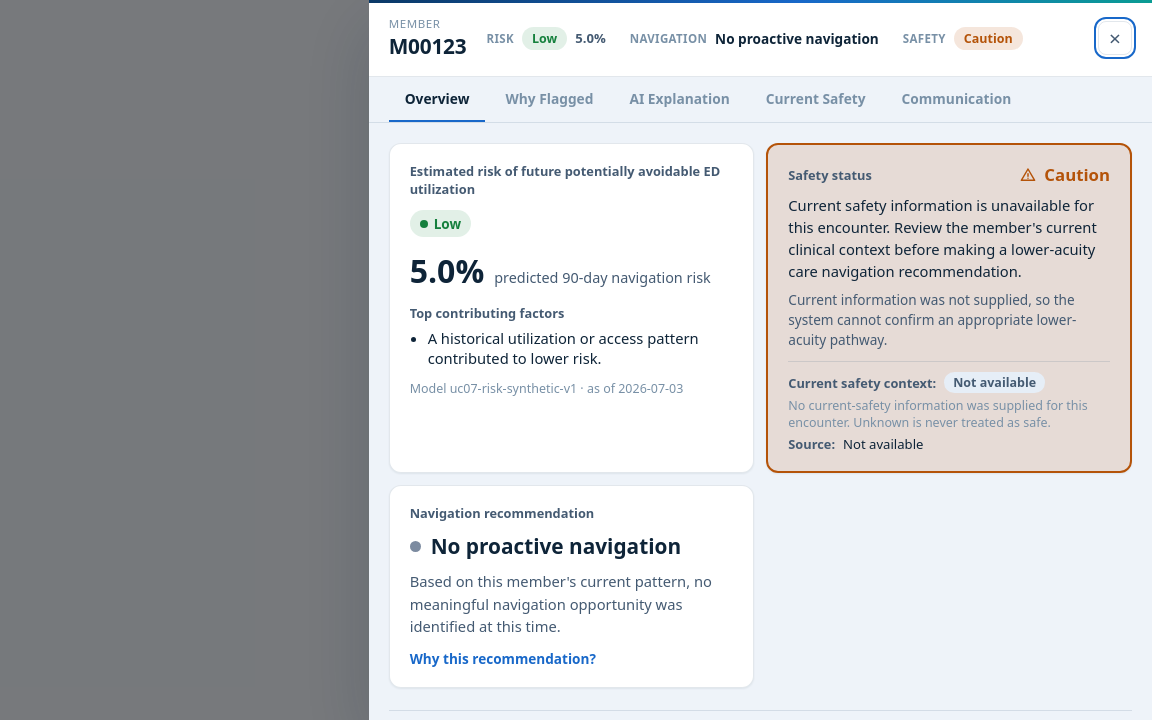
Test case: MemberDetailsDrawer (member workspace) › switches to the Current Safety tab and exposes the safety-context evaluator there
The image size is (1152, 720).
What coordinates should you click on to do the following:
click the tab "Current Safety"
I would click on:
 (816, 100)
Its box is [750, 77, 882, 122].
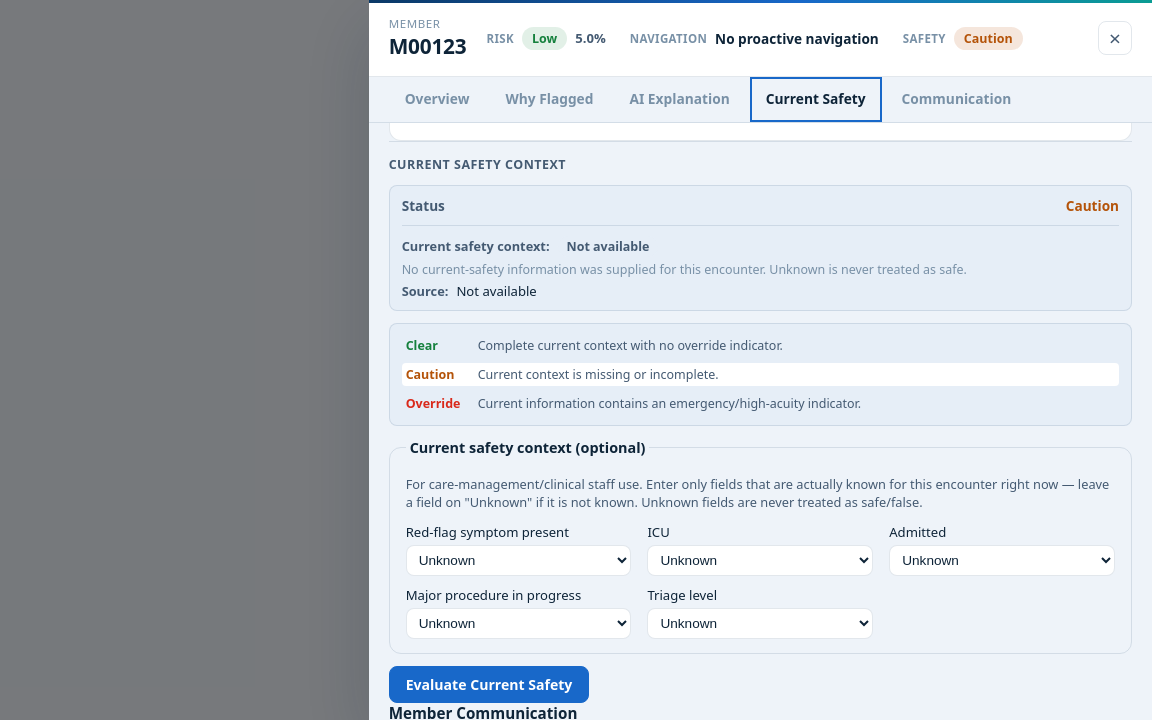
Expected: the element "Current Safety Context" is shown, [389, 140, 1132, 702]
